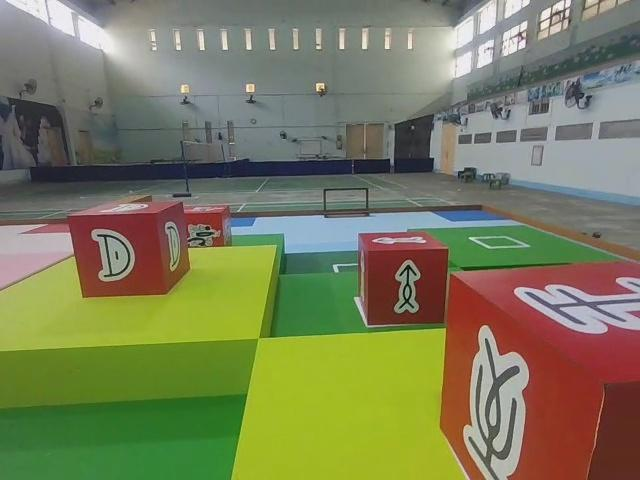R1: (181, 201, 236, 253)
R2 Fake: (441, 257, 640, 480)
R2 Real: (65, 199, 192, 300), (359, 228, 448, 328)
